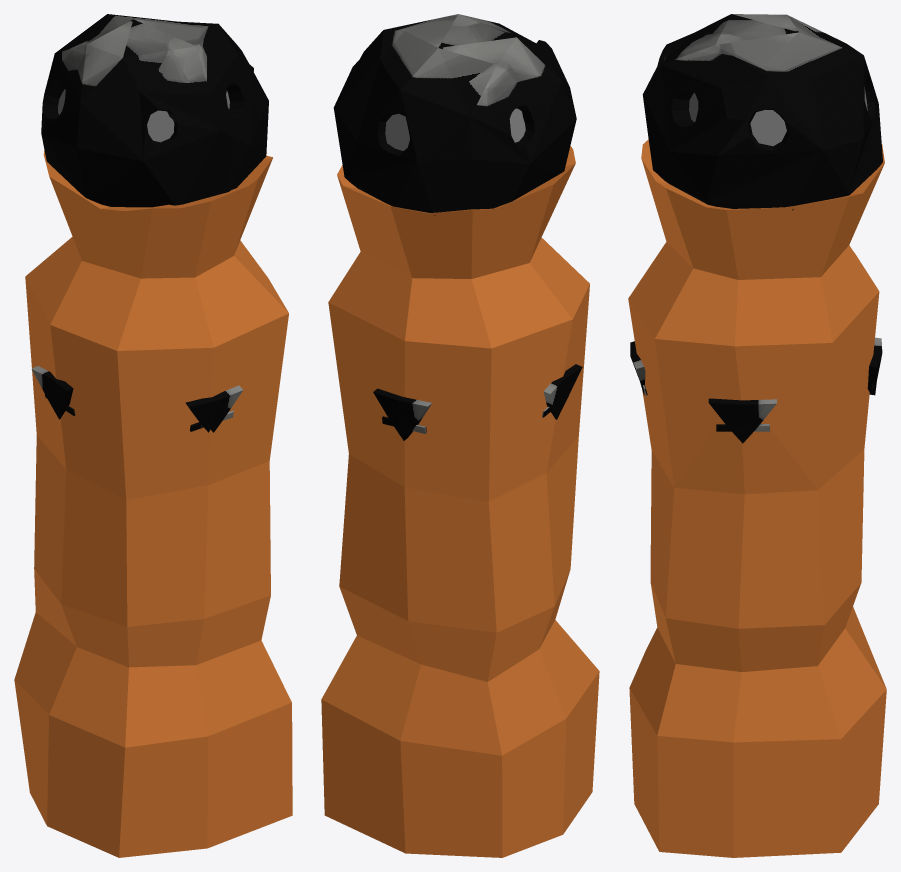
File: smallTurretSTONE.fbx
The picture shows the model from 3 angles, left to right: view 1: azimuth 30°, elevation 25°; view 2: azimuth 150°, elevation 25°; view 3: azimuth 270°, elevation 25°; orthographic projection.
Parts seen in each view (by area): view 1: Cube, Icosphere, Cube.004, Cube.003; view 2: Cube, Icosphere, Cube.002, Cube.003; view 3: Cube, Icosphere, Cube.001, Cube.002.
Boxes of the visible parts, x1=… form: Cube: x1=14, y1=150, x2=292, y2=857; Icosphere: x1=41, y1=14, x2=268, y2=207; Cube.004: x1=185, y1=385, x2=242, y2=432; Cube.003: x1=31, y1=366, x2=75, y2=419; Cube: x1=321, y1=146, x2=599, y2=857; Icosphere: x1=333, y1=14, x2=576, y2=215; Cube.002: x1=373, y1=388, x2=431, y2=440; Cube.003: x1=542, y1=364, x2=582, y2=419; Cube: x1=628, y1=139, x2=886, y2=857; Icosphere: x1=642, y1=14, x2=882, y2=210; Cube.001: x1=708, y1=398, x2=776, y2=443; Cube.002: x1=867, y1=337, x2=882, y2=395.
Size of the model in its own units: 98.43 by 339 by 103.
